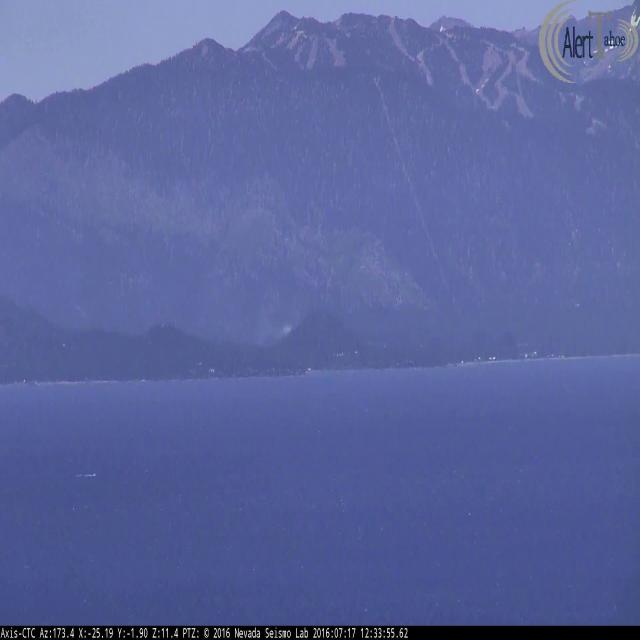smoke: (240, 297, 293, 348)
